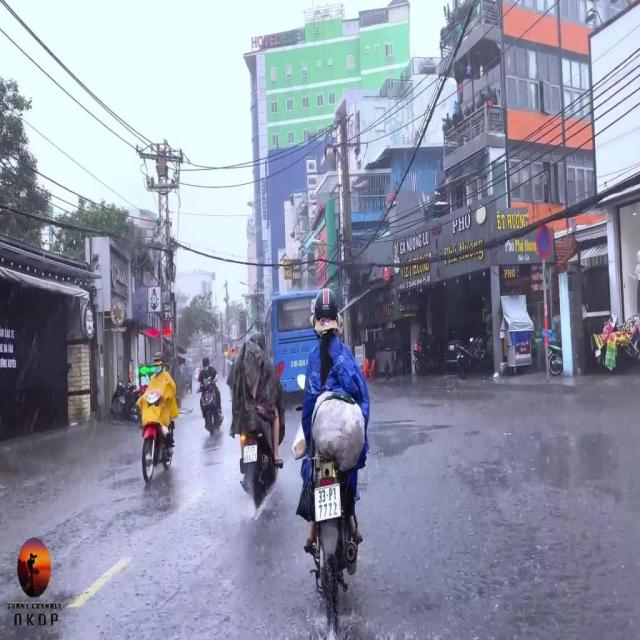cam_dung_xe_va_do_xe: (536, 225, 552, 258)
